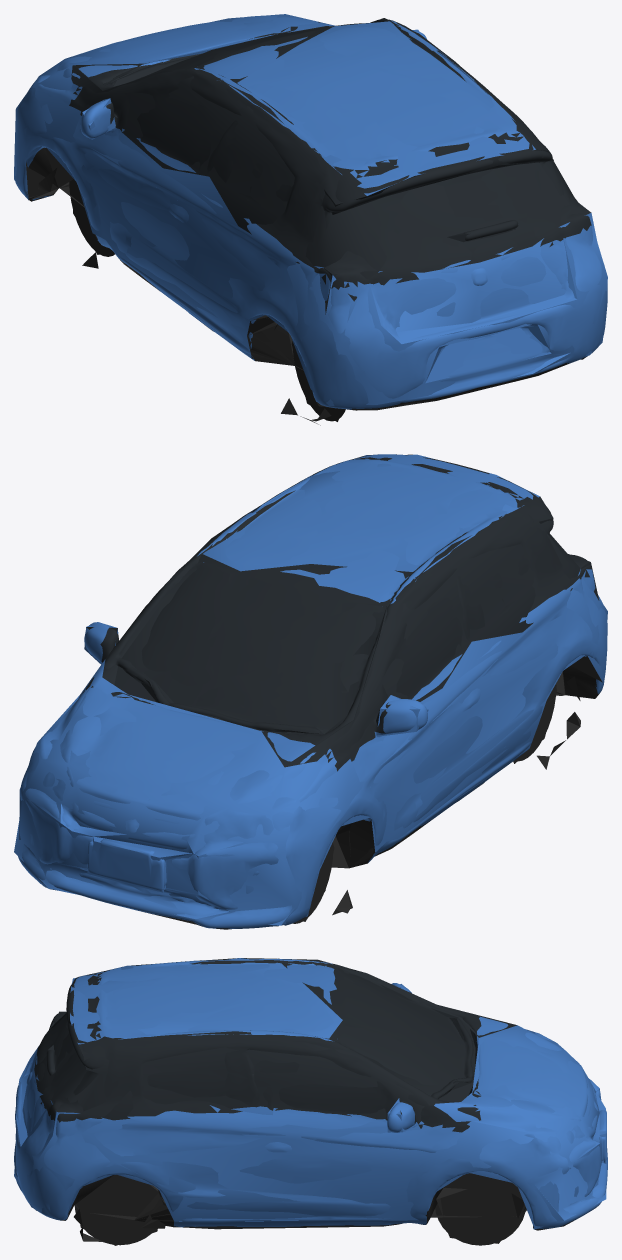
File: mitsubishi-mirage.glb
The picture shows the model from 3 angles, top to bottom: view 1: azimuth 30°, elevation 25°; view 2: azimuth 150°, elevation 25°; view 3: azimuth 270°, elevation 25°; orthographic projection. The views are drawn at different scales.
Visible parts, largest first — view 1: body, far; view 2: body, far; view 3: body, far.
Boxes of the visible parts, x1,y1,x2,y2 form: body: (14, 15, 607, 425); far: (14, 14, 607, 421); body: (18, 454, 607, 929); far: (14, 454, 607, 925); body: (14, 958, 607, 1245); far: (14, 958, 606, 1245).
Bounding box in the file's own units: 2.13 × 1.57 × 3.96.
